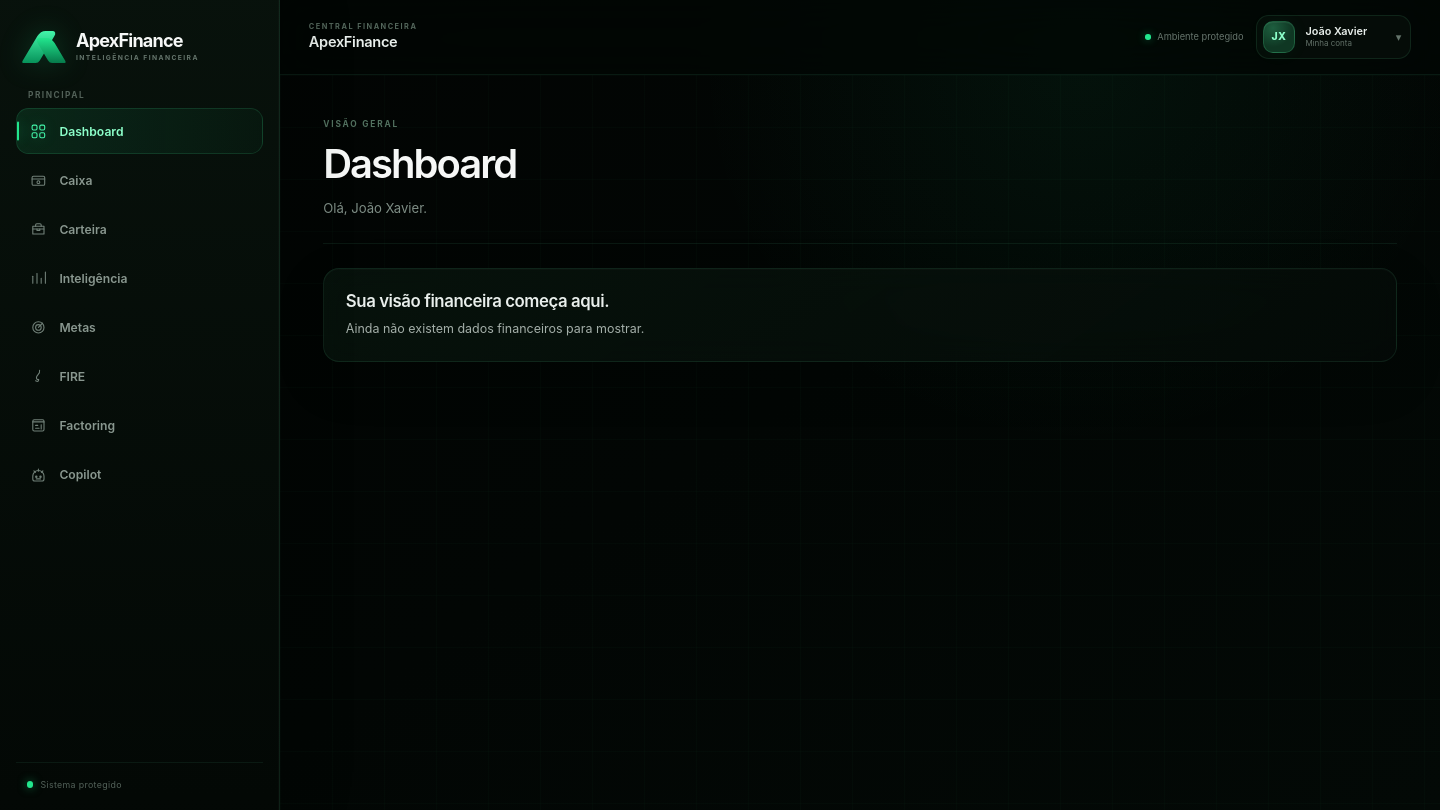
Menu do usuário do ApexFinance › exibe os dados do usuário e abre o menu
The image size is (1440, 810).
Expected: the text "João Xavier" is shown, [1305,25,1367,38]
Click the button with aria-label "abrir menu do usuário" at (1334, 37), box [1256,15,1411,59]
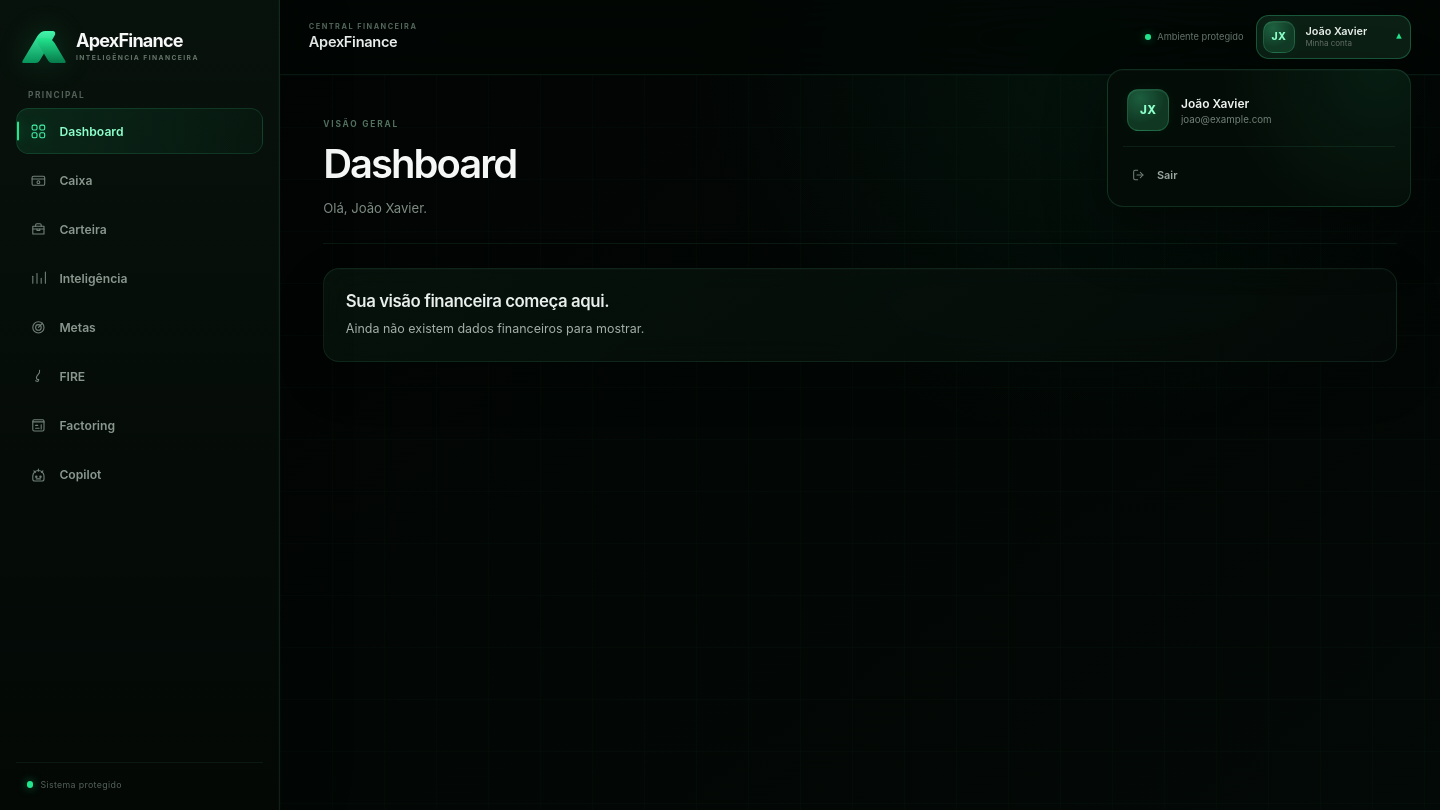
Result: the text "joao@example.com" is shown at [1181,114,1272,125]
Result: the button "Sair" is shown at [1119,154,1400,196]
